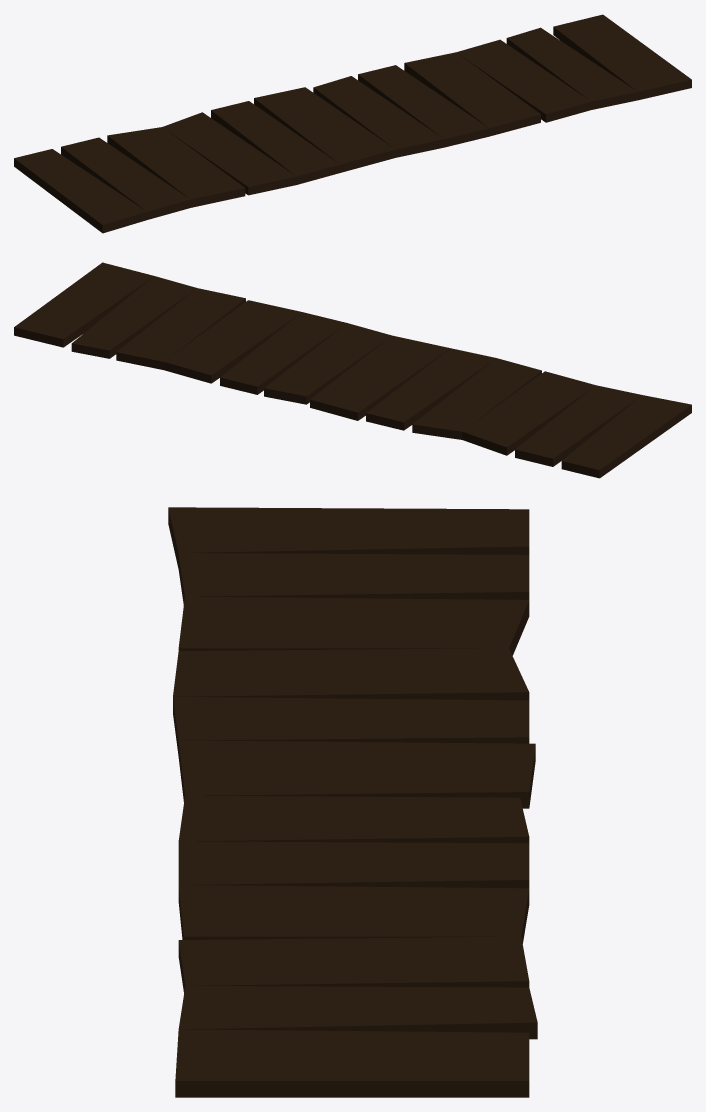
The model's file is dock.fbx.
The picture shows the model from 3 angles, top to bottom: view 1: azimuth 30°, elevation 25°; view 2: azimuth 150°, elevation 25°; view 3: azimuth 270°, elevation 25°; orthographic projection. The views are drawn at different scales.
Visible parts, largest first — view 1: Plane.002; view 2: Plane.002; view 3: Plane.002.
Part boxes in pixels (box(x1,y1,x2,y2)): Plane.002: box(14, 14, 691, 233); Plane.002: box(14, 262, 691, 478); Plane.002: box(168, 507, 537, 1097).
Size of the model in its own units: 523 by 7.09 by 142.
